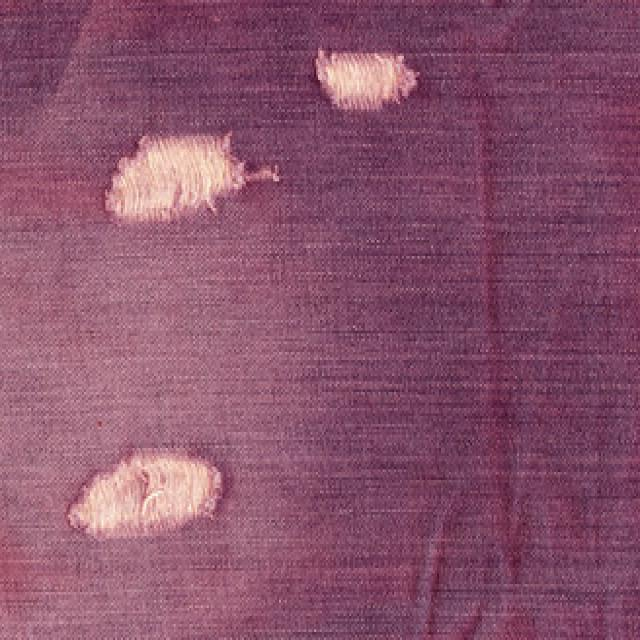Hole: (66, 448, 222, 540), (104, 132, 245, 222), (315, 48, 418, 109)
